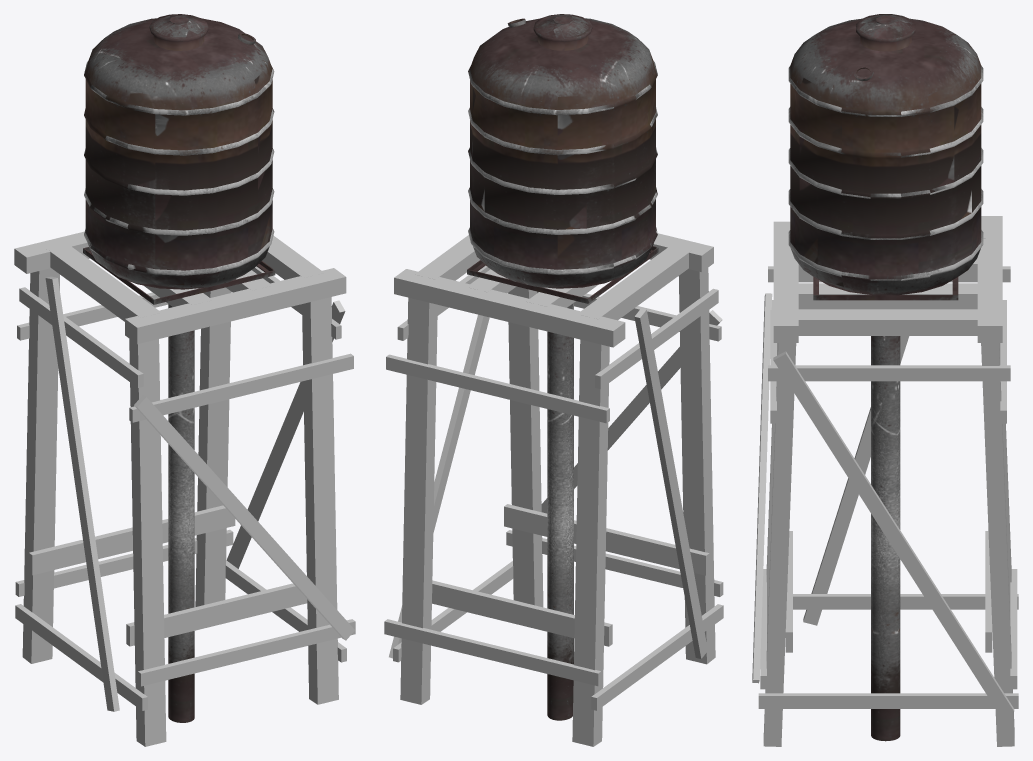
Rendered from watertank.fbx.
The picture shows the model from 3 angles, left to right: view 1: azimuth 30°, elevation 25°; view 2: azimuth 150°, elevation 25°; view 3: azimuth 270°, elevation 25°; orthographic projection. The views are drawn at different scales.
Parts seen in each view (by area): view 1: Water_Tank_Mini_Bootcamp; view 2: Water_Tank_Mini_Bootcamp; view 3: Water_Tank_Mini_Bootcamp.
Boxes of the visible parts, left/top/right/bottom form: Water_Tank_Mini_Bootcamp: left=14, top=14, right=355, bottom=746; Water_Tank_Mini_Bootcamp: left=384, top=14, right=723, bottom=746; Water_Tank_Mini_Bootcamp: left=752, top=14, right=1018, bottom=746.
Size of the model in its own units: 58.29 by 172 by 58.12.
